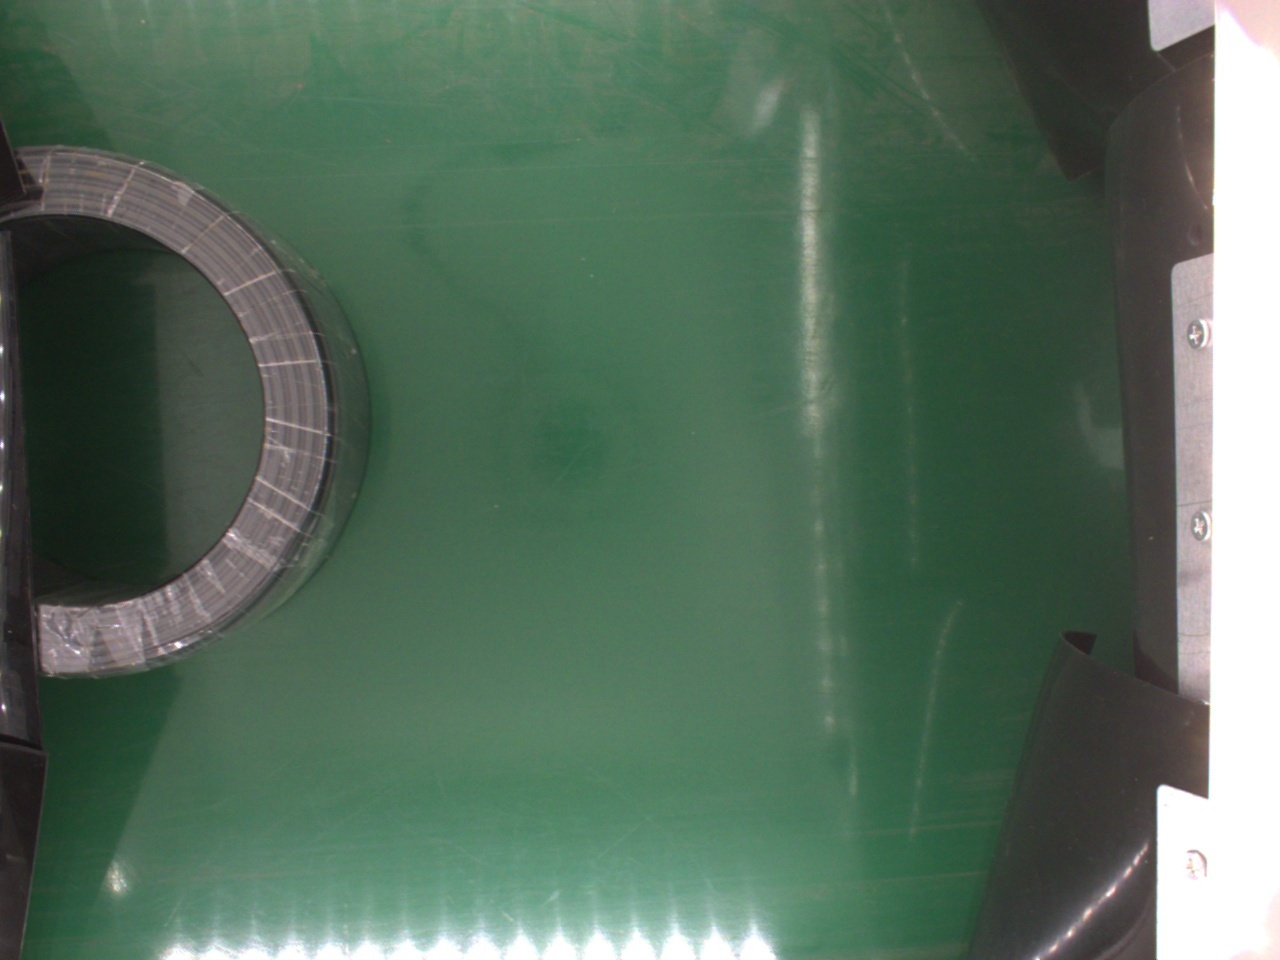black: (8, 143, 368, 673)
